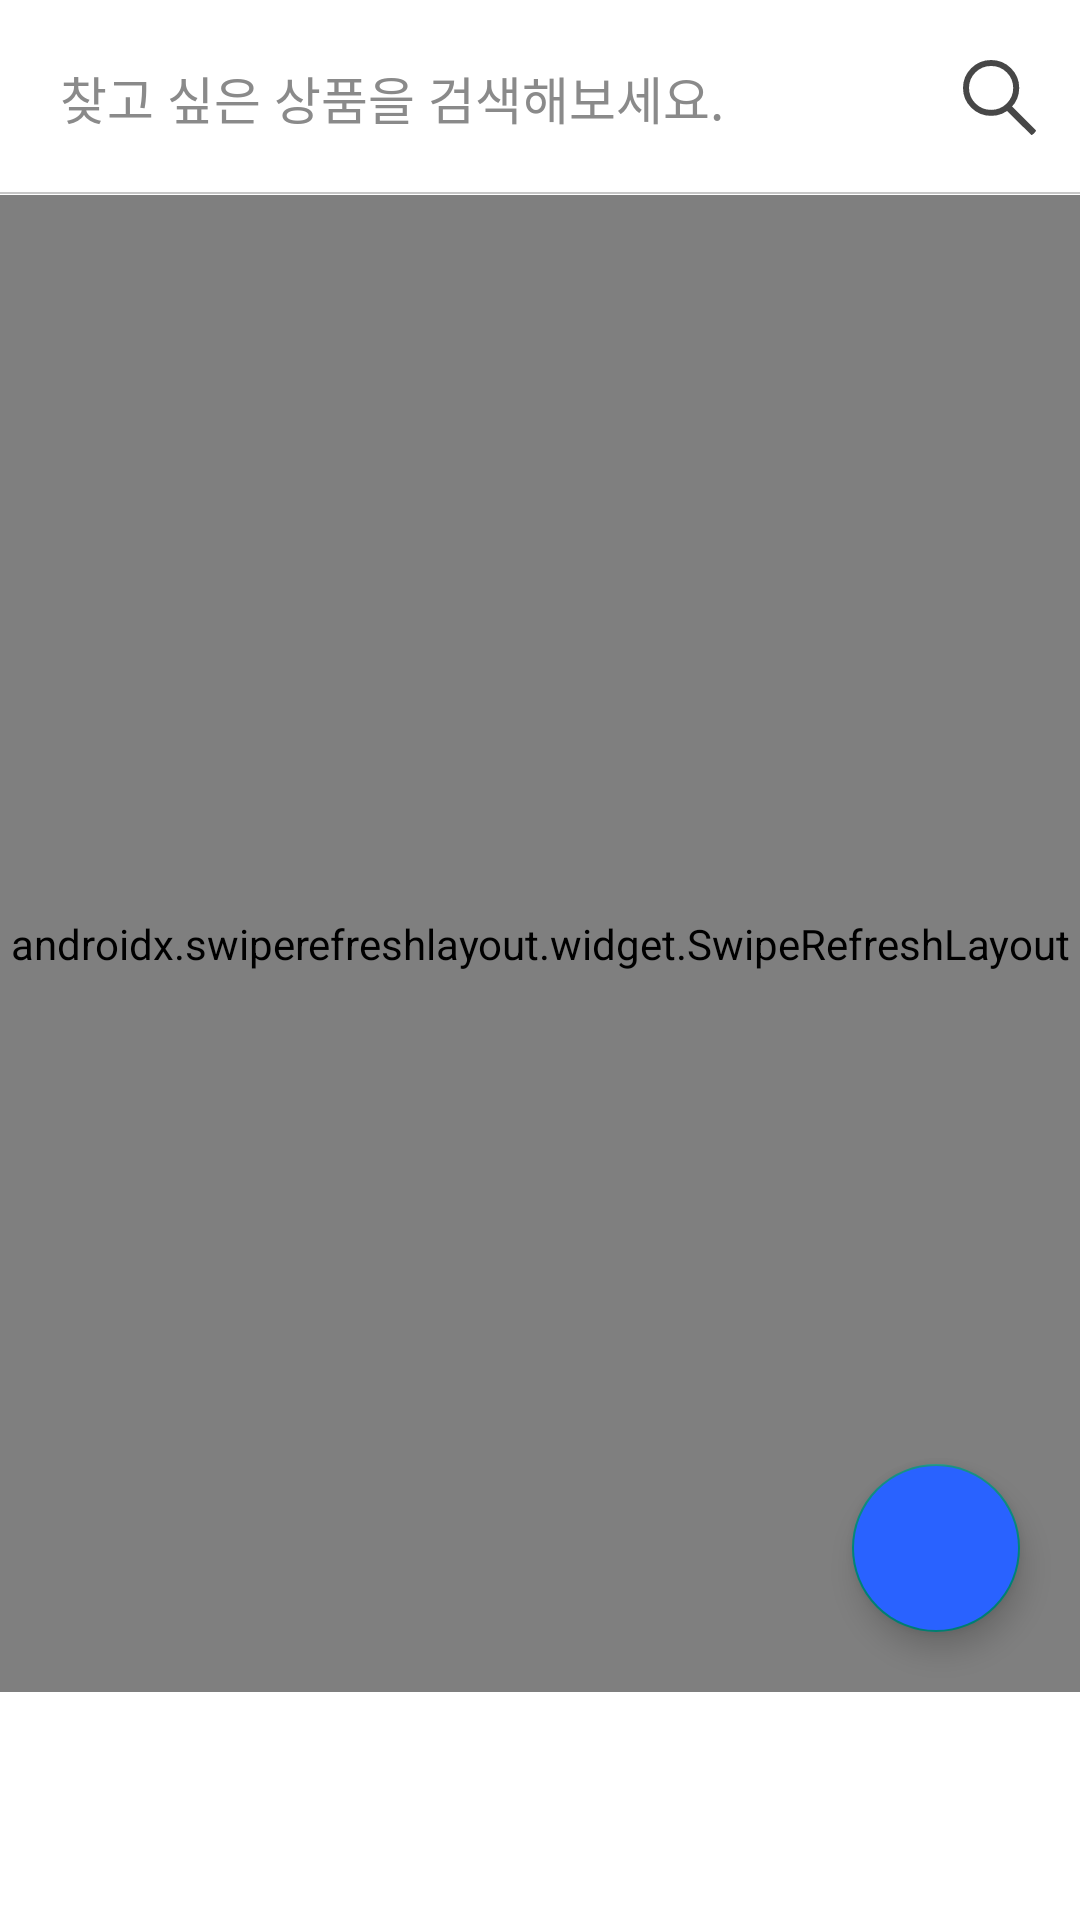

Locate icon controls on the screen. Image size 1080*1920, boxes as detection(x1, y1, x2, y2).
search: detection(963, 60, 1036, 135)
